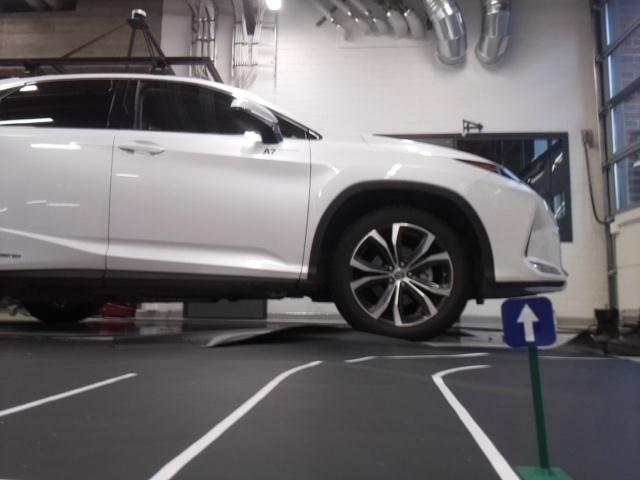OneWay: (496, 300, 556, 345)
